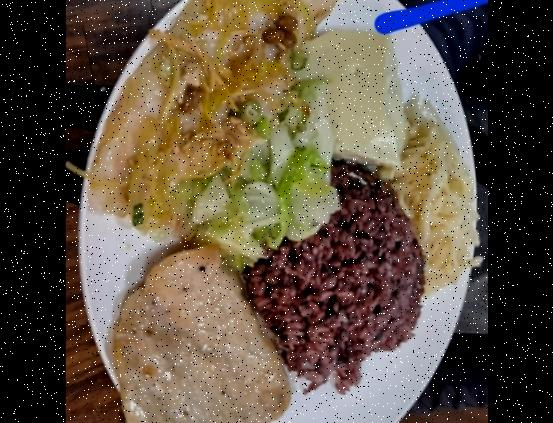big fried chicken leg: (74, 0, 480, 423)
braised fish: (242, 167, 425, 382)
braised fish fillet: (186, 90, 339, 260), (304, 27, 404, 179), (398, 103, 478, 289)
braised pork: (109, 238, 293, 423)
braised pork ribs: (86, 0, 357, 235)
